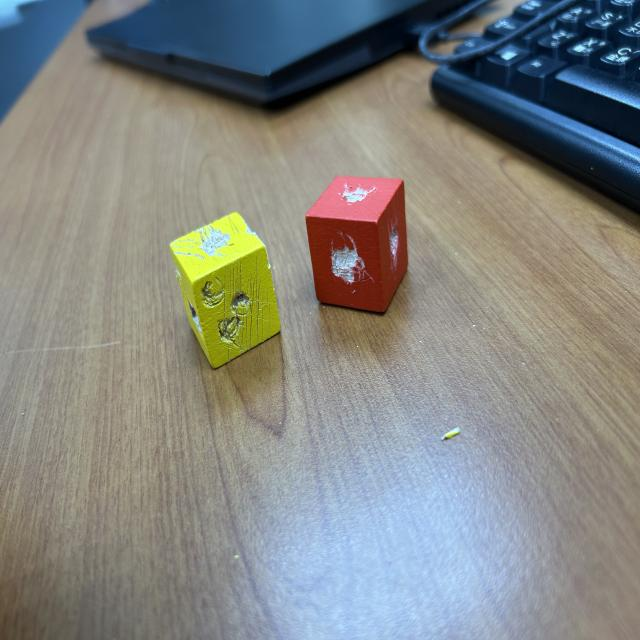broken: (170, 212, 282, 368), (306, 174, 408, 316)
